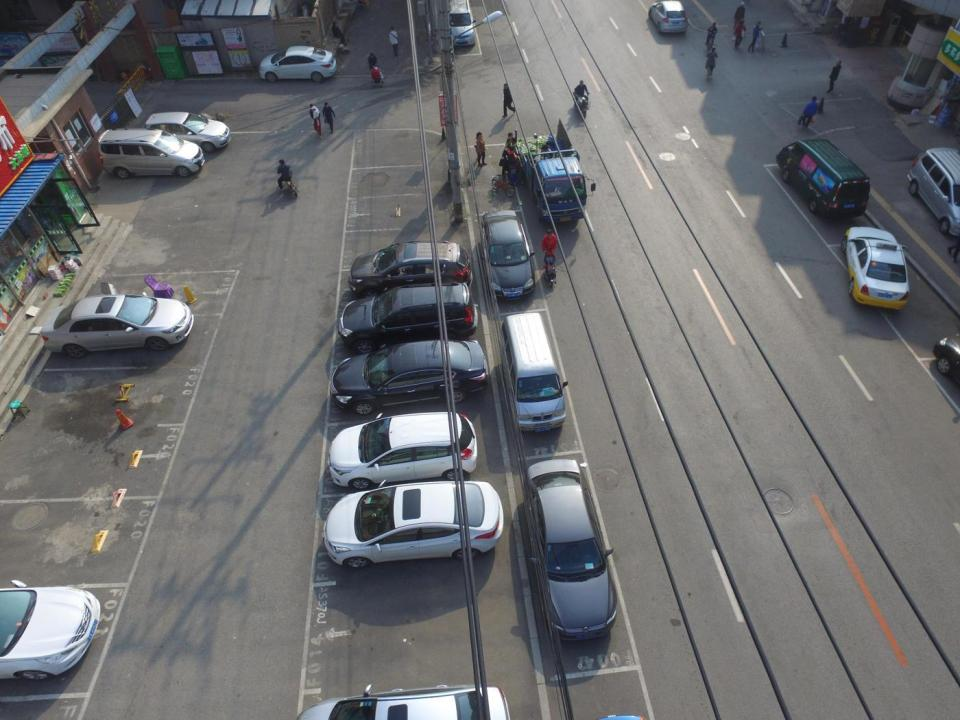car: (519, 458, 619, 643), (322, 480, 504, 571), (328, 412, 478, 492), (329, 341, 489, 415), (40, 282, 193, 358), (0, 579, 100, 683), (295, 683, 511, 720), (348, 240, 474, 302), (841, 225, 911, 311), (479, 208, 536, 301), (142, 111, 230, 153), (258, 44, 336, 84), (648, 0, 688, 35)
truck: (513, 118, 595, 224)
van: (338, 284, 479, 354), (498, 312, 569, 434), (775, 138, 871, 220), (97, 127, 205, 180), (906, 146, 960, 239), (443, 0, 477, 48)
